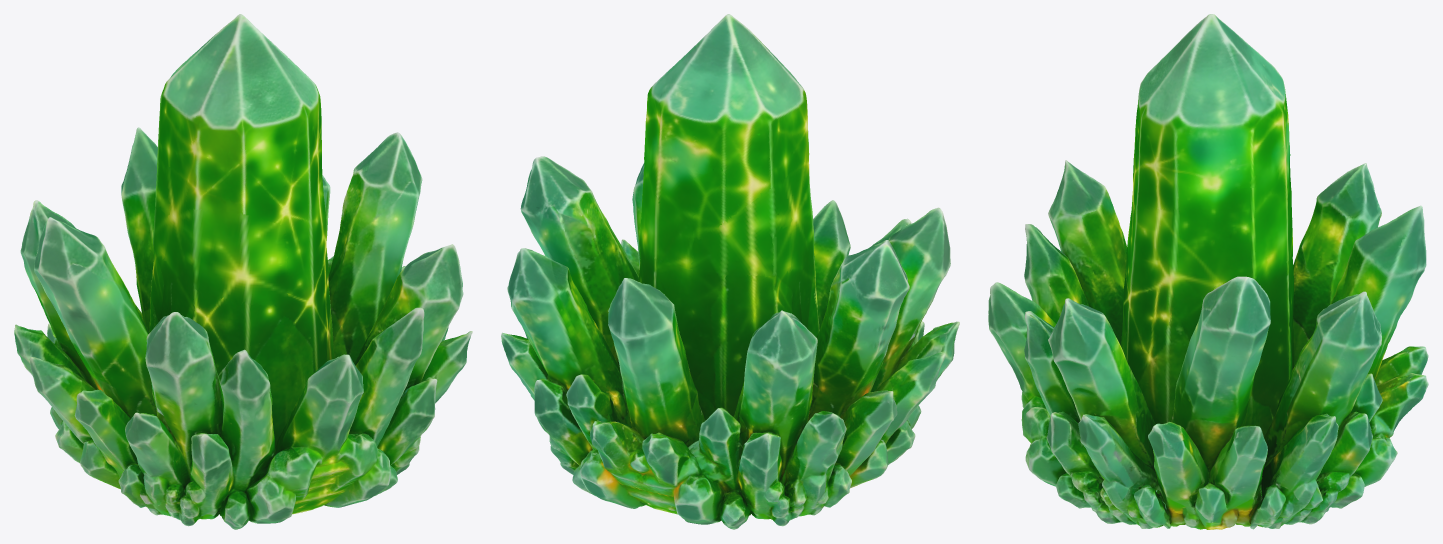
File: crystals-of-x_viii.glb
3 renders of one model, left to right at view 1: azimuth 30°, elevation 25°; view 2: azimuth 150°, elevation 25°; view 3: azimuth 270°, elevation 25°, orthographic.
Visible parts, largest first — view 1: Mesh_0_Material.001_0 (×6); view 2: Mesh_0_Material.001_0 (×6); view 3: Mesh_0_Material.001_0 (×6).
Boxes of the visible parts, x1,y1,x2,y2 form: Mesh_0_Material.001_0 (×6): [14, 14, 472, 529]; Mesh_0_Material.001_0 (×6): [501, 14, 959, 529]; Mesh_0_Material.001_0 (×6): [988, 14, 1428, 529].
Size of the model in its own units: 1.69 by 1.9 by 1.65.
1 material, 1 textured.
